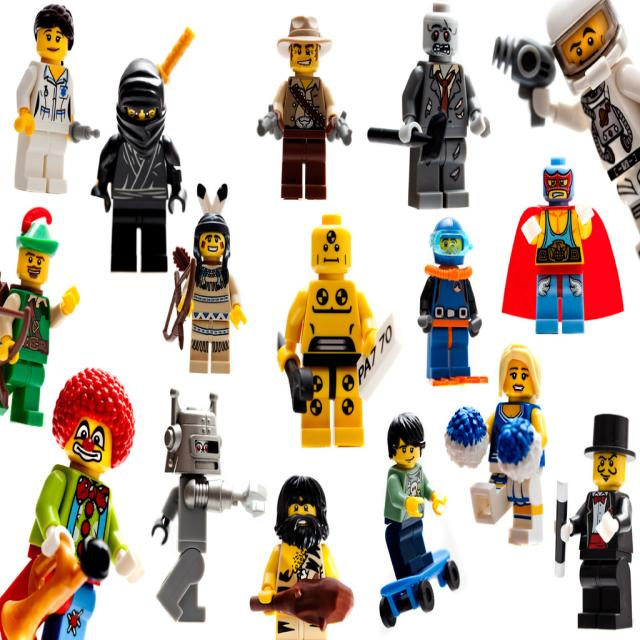Toy: (0, 365, 147, 639), (491, 0, 640, 256), (274, 214, 402, 449), (150, 393, 268, 625), (367, 2, 491, 207), (91, 25, 189, 274), (502, 156, 623, 336), (443, 347, 550, 548), (550, 410, 637, 627), (256, 12, 352, 202), (0, 207, 81, 429), (249, 475, 356, 640), (377, 412, 459, 624), (13, 4, 101, 198), (162, 183, 249, 376), (418, 216, 487, 385)
